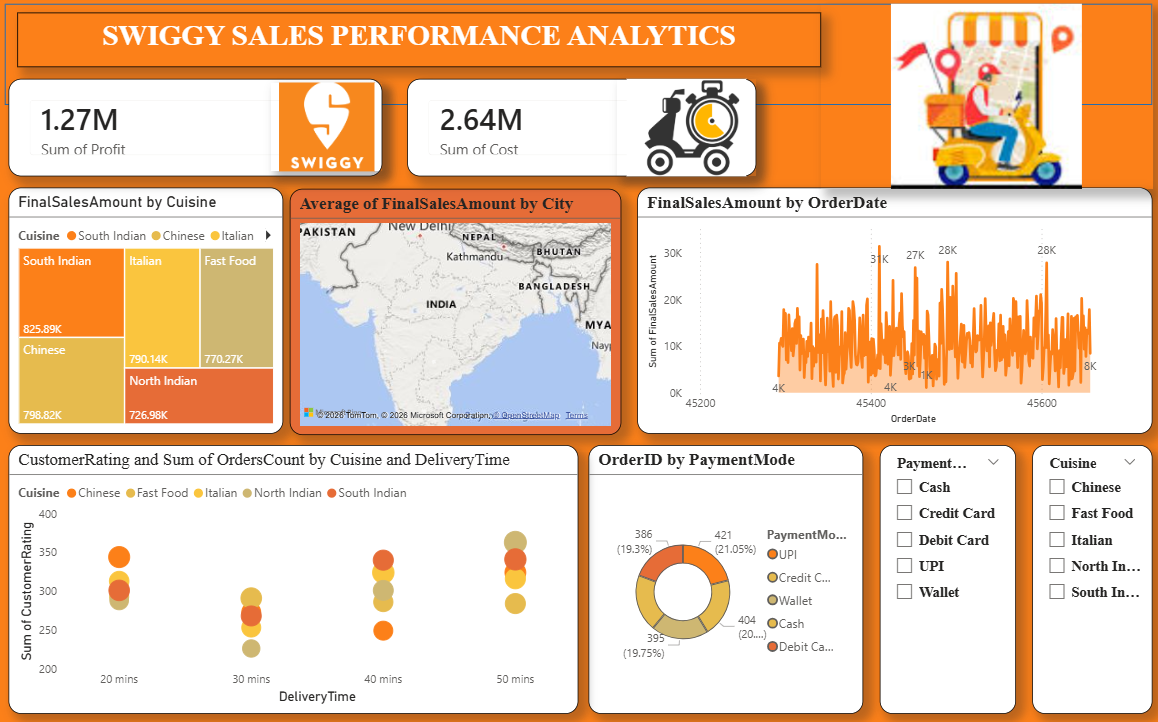

What the dashboard file says about the page in this screenshot:
{"tool":"powerbi","page":{"name":"Page 2","canvas":[1280,802],"ordinal":1},"visuals":[{"type":"shape","box":[9.6,9.6,1259.7,111.1],"z":0},{"type":"textbox","box":[23.3,19.2,882.3,60.4],"z":1000},{"type":"treemap","title":" FinalSalesAmount by Cuisine","fields":{"Values":["Sum(Sheet1.FinalSalesAmount)"],"Group":["Sheet1.Cuisine"]},"box":[13.7,211.3,301.9,270.3],"z":3000},{"type":"filledMap","fields":{"Category":["Sheet1.City"],"Y":["Avg(Sheet1.FinalSalesAmount)"]},"box":[322.5,212.7,363.6,270.3],"z":4000},{"type":"lineChart","title":" FinalSalesAmount by OrderDate","fields":{"Category":["Sheet1.OrderDate"],"Y":["Sum(Sheet1.FinalSalesAmount)"]},"box":[703.9,211.3,565.4,270.3],"z":5000},{"type":"donutChart","title":"OrderID by PaymentMode","fields":{"Category":["Sheet1.PaymentMode"],"Y":["CountNonNull(Sheet1.OrderID)"]},"box":[650.4,494,301.9,295],"z":7000},{"type":"scatterChart","title":"CustomerRating and Sum of OrdersCount by Cuisine and DeliveryTime","fields":{"X":["Sheet1.DeliveryTime"],"Y":["Sum(Sheet1.CustomerRating)"],"Series":["Sheet1.Cuisine"],"Size":["Sum(Sheet1.OrdersCount)"]},"box":[13.7,494,625.7,295],"z":8000},{"type":"slicer","fields":{"Values":["Sheet1.Cuisine"]},"box":[1137.6,494,131.7,295],"z":9000},{"type":"slicer","fields":{"Values":["Sheet1.PaymentMode"]},"box":[970.2,494,149.6,295],"z":10000},{"type":"cardVisual","fields":{"Data":["Sum(Sheet1.Profit)"]},"box":[13.7,91.9,410.3,107],"z":11000},{"type":"cardVisual","fields":{"Data":["Sum(Sheet1.Cost)"]},"box":[451.5,91.9,382.8,107],"z":12000},{"type":"image","box":[301.9,96.1,122.1,97.4],"z":12001},{"type":"image","box":[905.7,9.6,363.6,203.1],"z":12002},{"type":"image","box":[682,91.9,152.3,107],"z":12003}]}

Visuals, with their boxes in screenshot pixels (x1, y1, x2, y2), scaled from the page's 1280x802 canvas onto the 1158x722 screenshot:
shape: box(9, 9, 1148, 109)
textbox: box(21, 17, 819, 72)
" FinalSalesAmount by Cuisine" treemap: box(12, 190, 286, 434)
filledMap - Sheet1.City x Avg(Sheet1.FinalSalesAmount): box(292, 191, 621, 435)
" FinalSalesAmount by OrderDate" lineChart: box(637, 190, 1148, 434)
"OrderID by PaymentMode" donutChart: box(588, 445, 862, 710)
"CustomerRating and Sum of OrdersCount by Cuisine and DeliveryTime" scatterChart: box(12, 445, 578, 710)
slicer - Sheet1.Cuisine: box(1029, 445, 1148, 710)
slicer - Sheet1.PaymentMode: box(878, 445, 1013, 710)
cardVisual - Sum(Sheet1.Profit): box(12, 83, 384, 179)
cardVisual - Sum(Sheet1.Cost): box(408, 83, 755, 179)
image: box(273, 87, 384, 174)
image: box(819, 9, 1148, 191)
image: box(617, 83, 755, 179)
